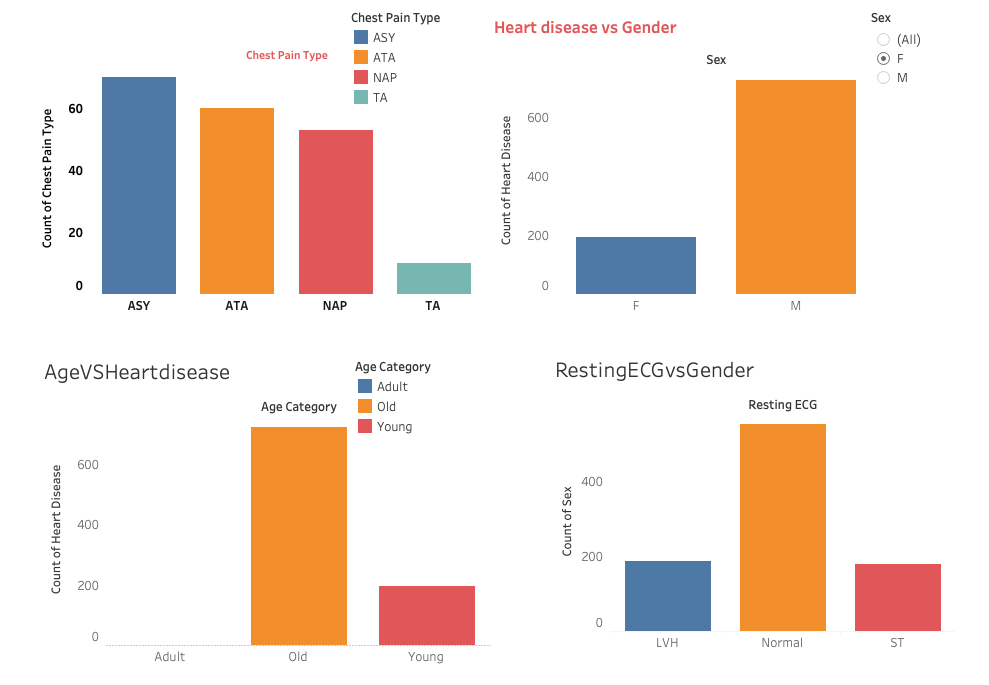

The dashboard page shown, as its layout file describes it:
{"tool":"tableau","page":{"name":"Dashboard 1","canvas":[1000,800],"ordinal":0},"visuals":[{"type":"filter","title":"Chest_Pain","param":"[federated.1rx8jug1jdma6119tjp2k12np9yd].[none:Sex:nk]","box":[873,12,81,88]},{"type":"worksheet","title":"HeartDiseaseVSgender","mark":"Automatic","rows":["HeartDisease"],"cols":["Sex"],"box":[492,15,386,303]},{"type":"legend","title":"Chest_Pain","param":"[federated.1rx8jug1jdma6119tjp2k12np9yd].[none:ChestPainType:nk]","box":[362,26,118,102]},{"type":"worksheet","title":"Chest_Pain","mark":"Bar","rows":["ChestPainType"],"cols":["ChestPainType"],"box":[33,33,452,285]},{"type":"worksheet","title":"RestingECGvsGender","mark":"Bar","rows":["Sex"],"cols":["RestingECG"],"box":[553,354,404,301]},{"type":"worksheet","title":"AgeVSHeartdisease","mark":"Bar","rows":["HeartDisease"],"cols":["Calculation_920001008619126785"],"box":[42,356,451,313]},{"type":"legend","title":"AgeVSHeartdisease","param":"[federated.1rx8jug1jdma6119tjp2k12np9yd].[none:Calculation_920001008619126785:nk","box":[357,361,140,78]}]}

Visuals, with their boxes on the page's 1000x800 design canvas (x1, y1, x2, y2). These are canvas units, not pixel positions in the 989x685 screenshot, which may show the page scaled, cropped or inside an application window:
"Chest_Pain" filter: left=873, top=12, right=954, bottom=100
"HeartDiseaseVSgender" worksheet: left=492, top=15, right=878, bottom=318
"Chest_Pain" legend: left=362, top=26, right=480, bottom=128
"Chest_Pain" worksheet (Bar marks): left=33, top=33, right=485, bottom=318
"RestingECGvsGender" worksheet (Bar marks): left=553, top=354, right=957, bottom=655
"AgeVSHeartdisease" worksheet (Bar marks): left=42, top=356, right=493, bottom=669
"AgeVSHeartdisease" legend: left=357, top=361, right=497, bottom=439
